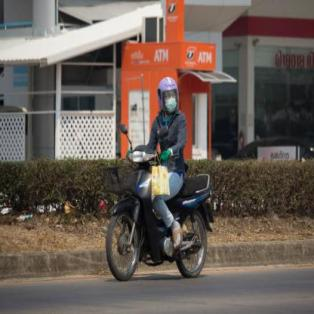Motocicleta: (102, 136, 213, 285)
